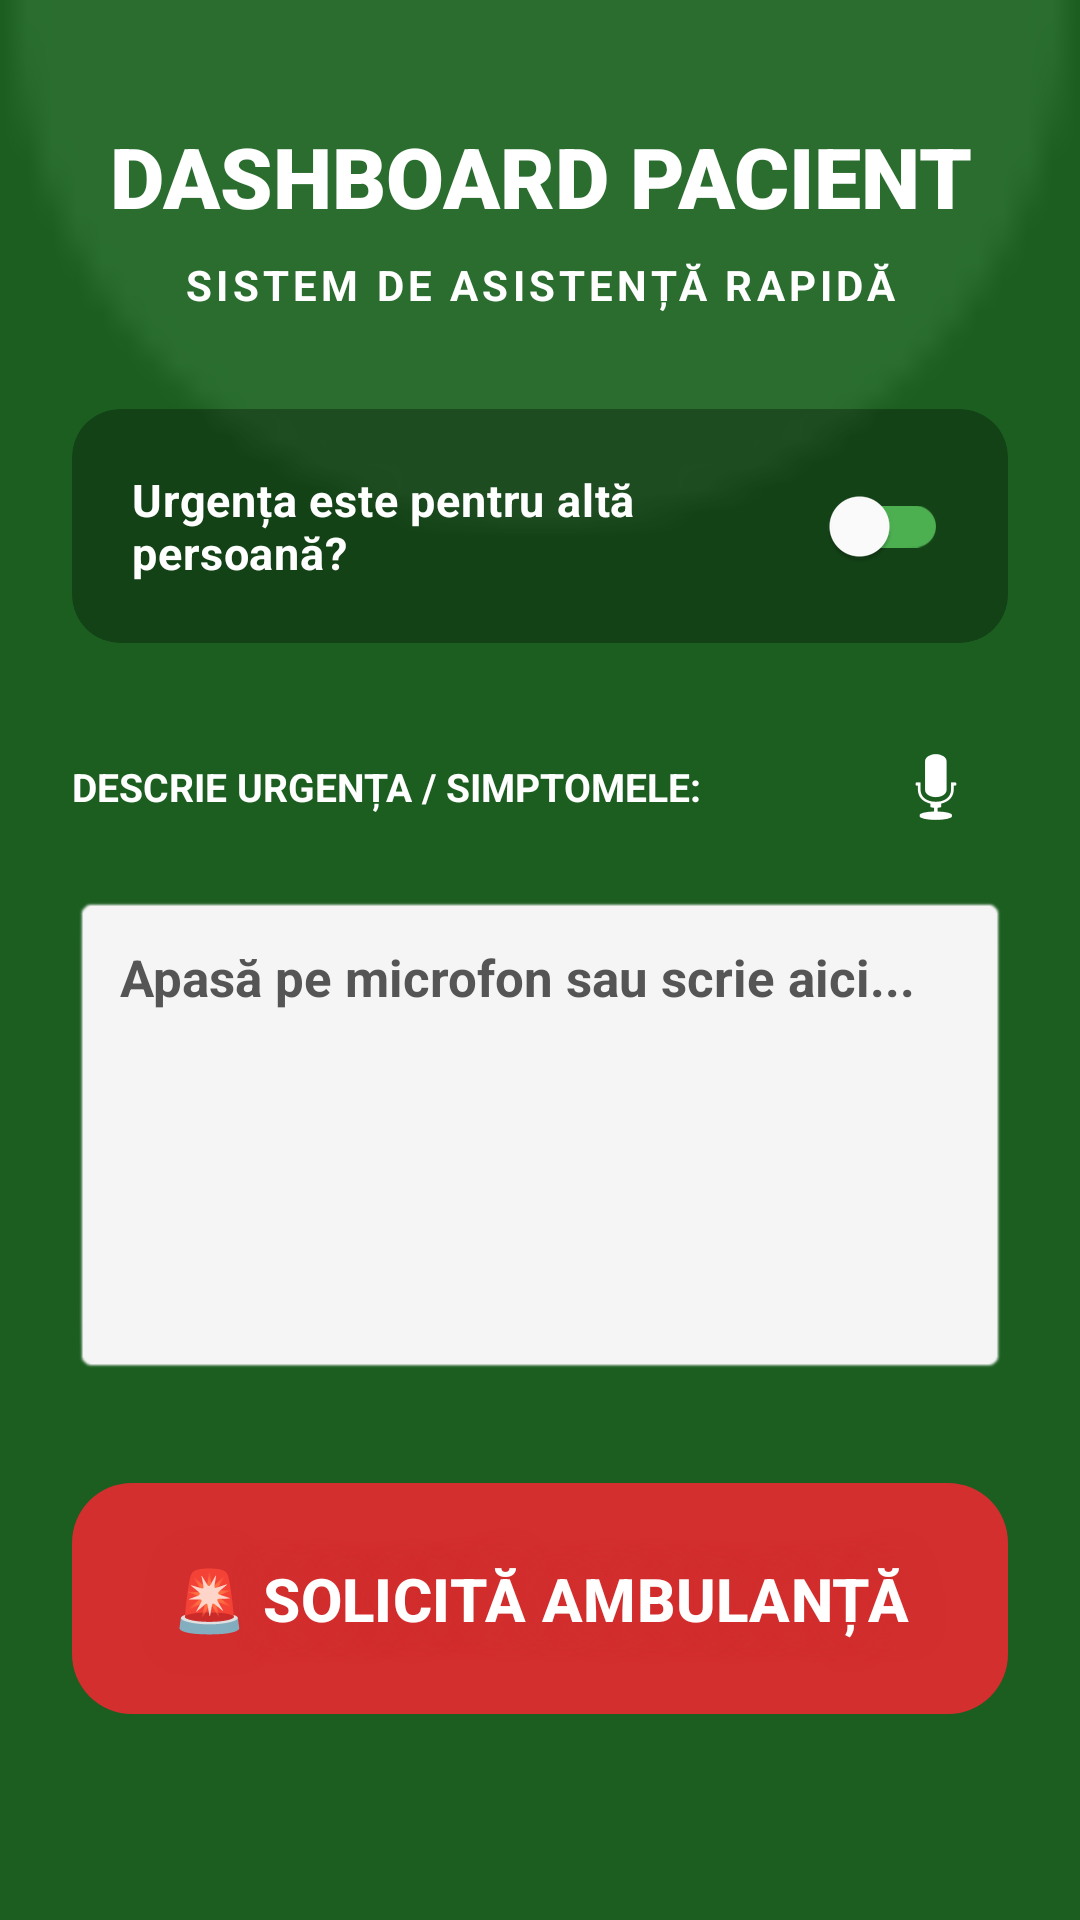

Screen size 1080x1920. Icon name, then its center in pixels as (x,y):
Input vocal: (936,787)
